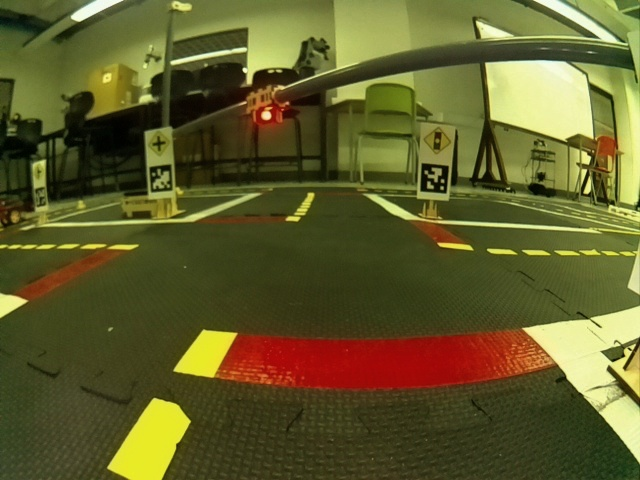aviso de semaforo: (421, 123, 452, 154)
linea de pare: (211, 329, 558, 388)
semaforo rojo: (243, 82, 291, 129)
